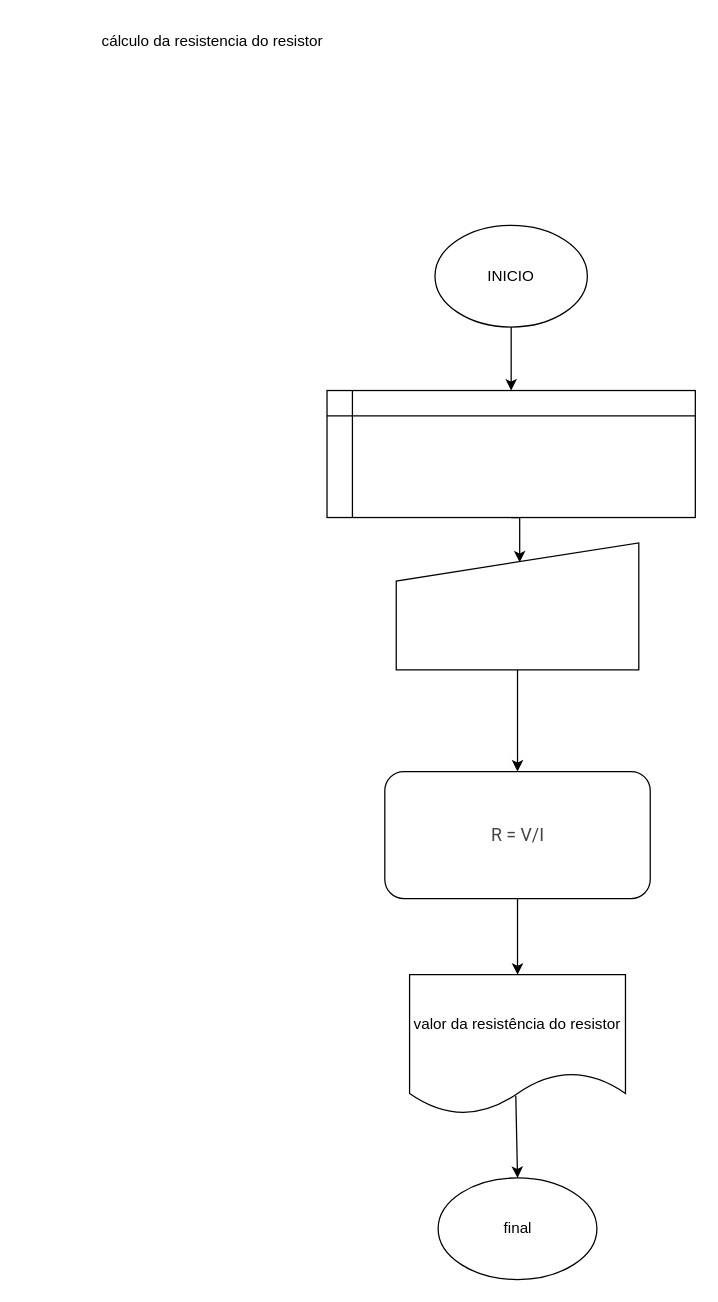
The diagram is 718 pixels wide and 1302 high, and some of its shapes have lost their labels. Each missing label, with the centre of its shape:
entrada tensão e corrente e saida resistencia: the point at 510,453
valores da tensão (V) e corrente (I): the point at 517,606
